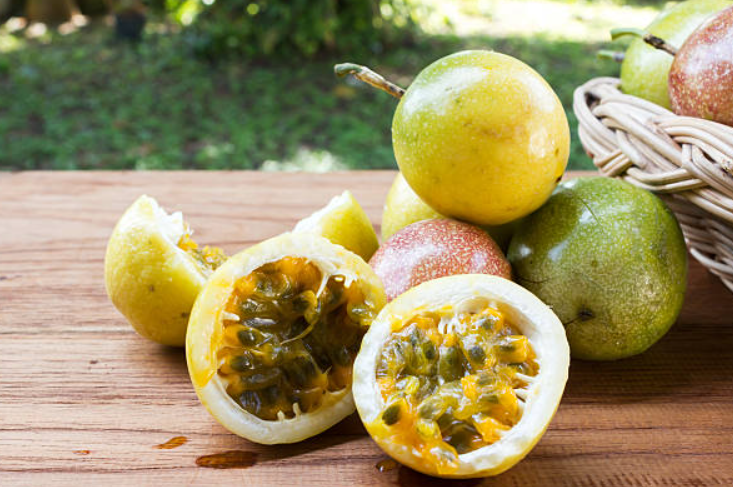maracuya: (382, 44, 575, 232)
